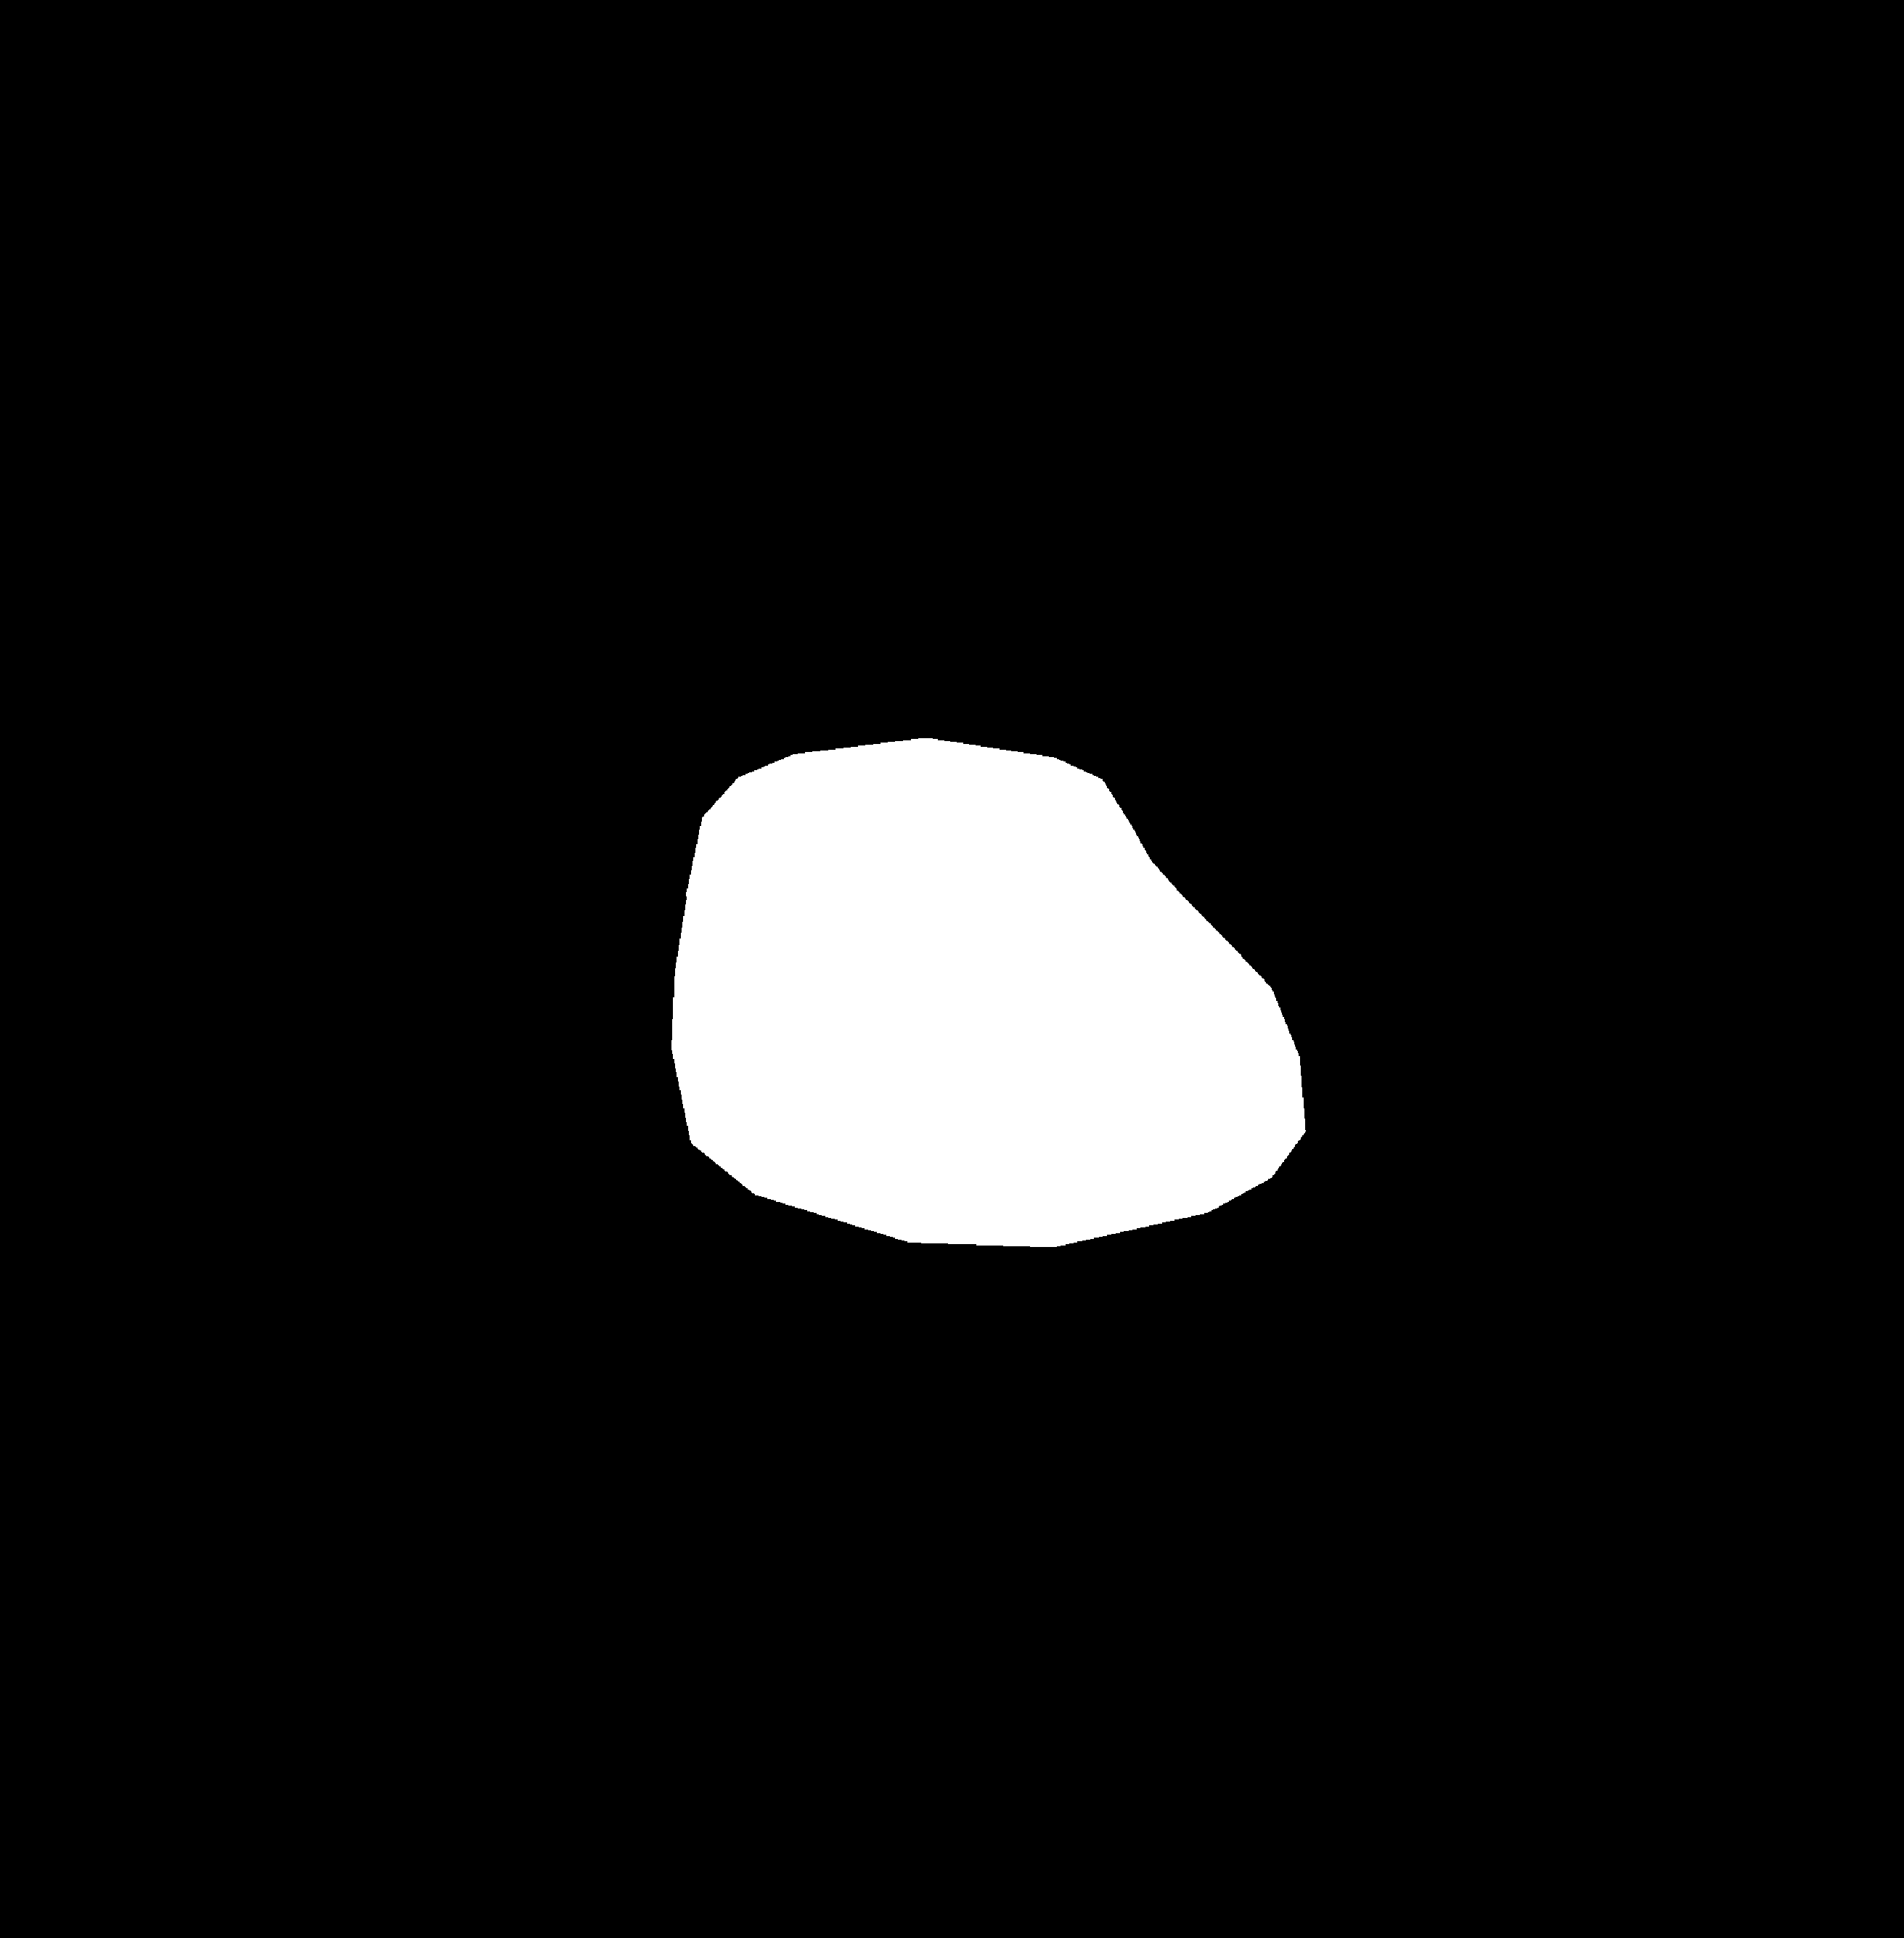heart: (629, 803, 1360, 1332)
left_lung: (343, 265, 870, 1117)
right_lung: (982, 221, 1499, 1169)
